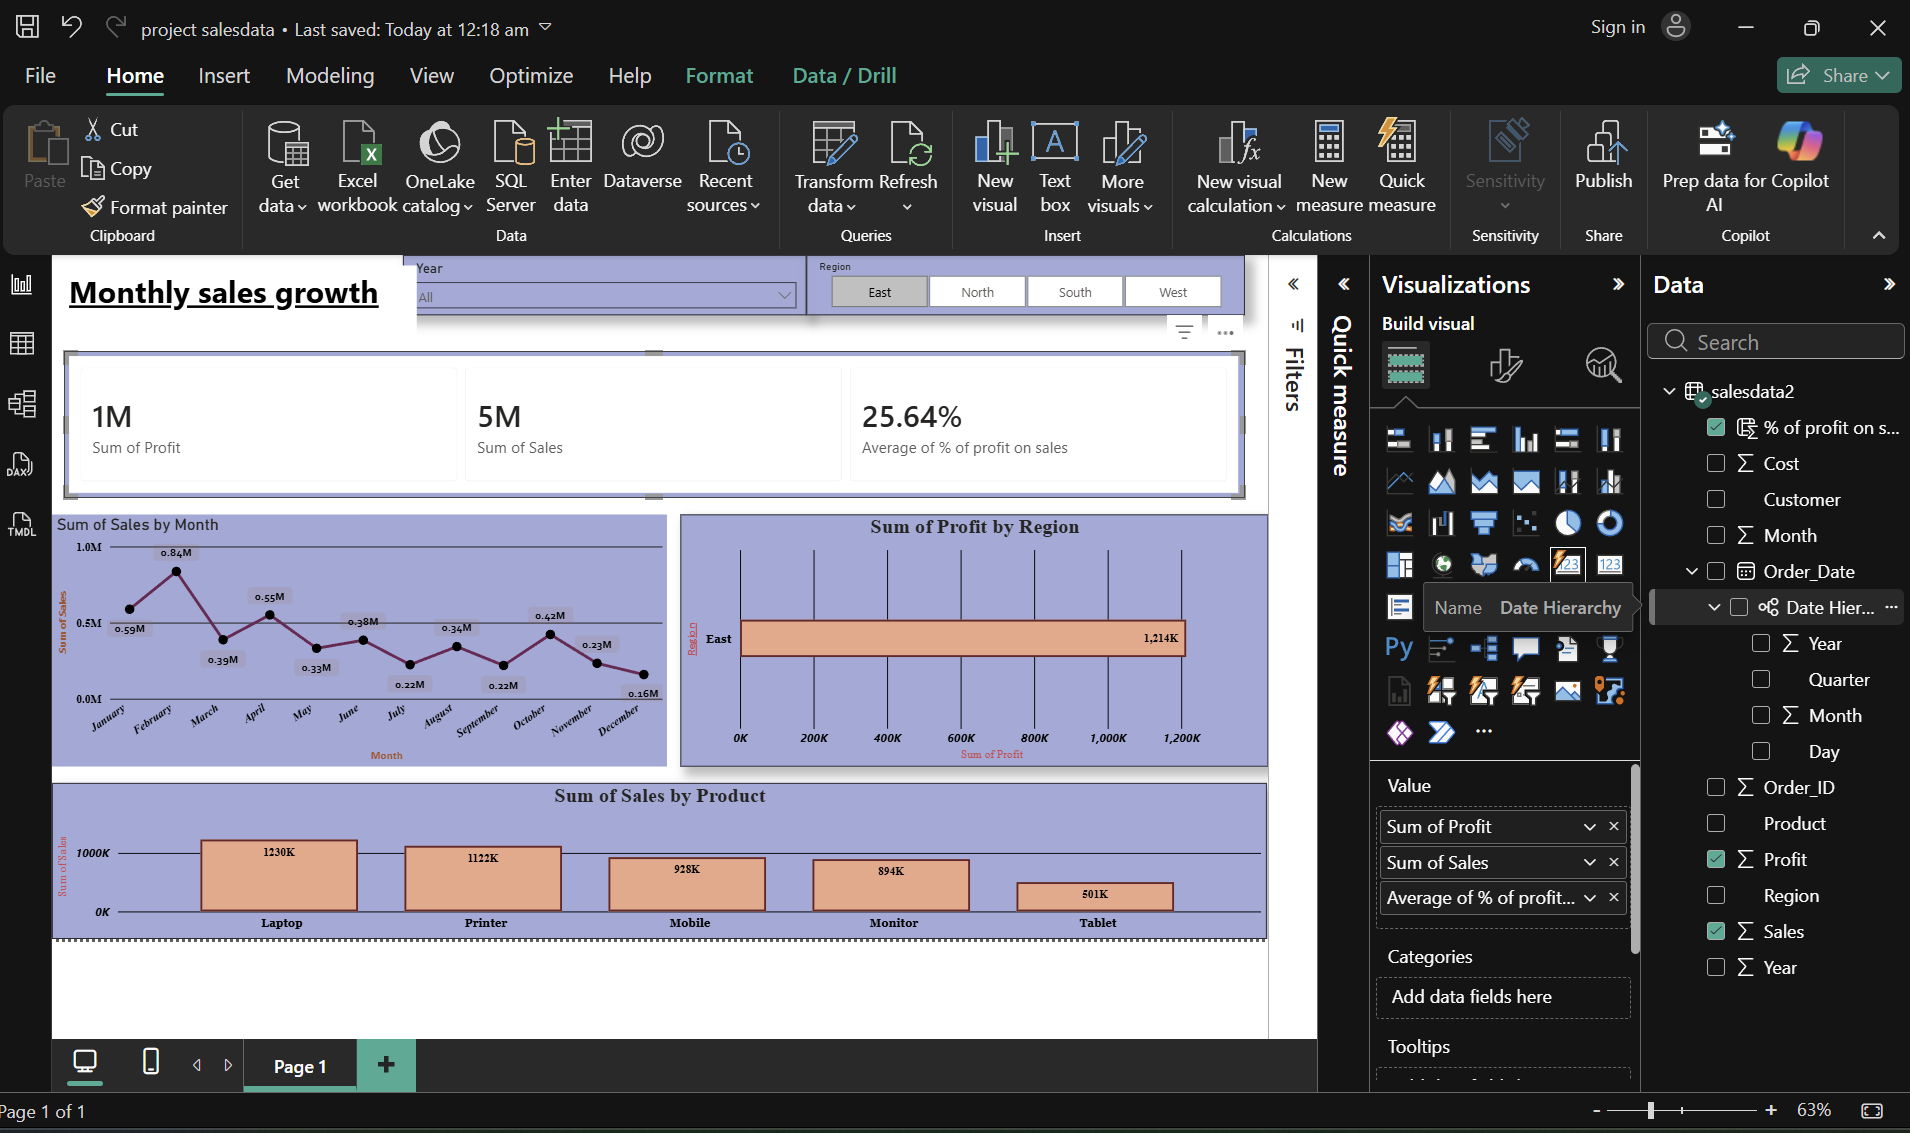

The dashboard page shown, as its layout file describes it:
{"tool":"powerbi","page":{"name":"Page 1","canvas":[1280,720],"ordinal":0},"visuals":[{"type":"clusteredBarChart","fields":{"Y":["Sum(salesdata2.Profit)"],"Category":["salesdata2.Region"]},"box":[661.6,273.2,619,265.3],"z":0},{"type":"cardVisual","fields":{"Data":["Sum(salesdata2.Profit)","Sum(salesdata2.Sales)","Avg(salesdata2.% of profit on sales)"]},"box":[0,101.5,1279.5,184.7],"z":1},{"type":"lineChart","fields":{"Category":["salesdata2.Order_Date.Variation.Date Hierarchy.Month"],"Y":["Sum(salesdata2.Sales)"]},"box":[0,273.2,647.4,265.3],"z":2},{"type":"columnChart","fields":{"Y":["Sum(salesdata2.Sales)"],"Category":["salesdata2.Product"]},"box":[0,555.8,1279,164.2],"z":3},{"type":"slicer","fields":{"Values":["salesdata2.Order_Date.Variation.Date Hierarchy.Year"]},"box":[369.5,0,424.7,88.4],"z":4},{"type":"slicer","fields":{"Values":["salesdata2.Region"]},"box":[794.2,0,461.1,63.2],"z":5},{"type":"textbox","box":[12.6,11.1,371.1,77.4],"z":6}]}

Visuals, with their boxes on the page's 1280x720 design canvas (x1, y1, x2, y2). These are canvas units, not pixel positions in the 1910x1133 screenshot, which may show the page scaled, cropped or inside an application window:
clusteredBarChart - Sum(salesdata2.Profit) x salesdata2.Region: {"left": 662, "top": 273, "right": 1281, "bottom": 538}
cardVisual - Sum(salesdata2.Profit) x Sum(salesdata2.Sales): {"left": 0, "top": 102, "right": 1280, "bottom": 286}
lineChart - salesdata2.Order_Date.Variation.Date Hierarchy.Month x Sum(salesdata2.Sales): {"left": 0, "top": 273, "right": 647, "bottom": 538}
columnChart - Sum(salesdata2.Sales) x salesdata2.Product: {"left": 0, "top": 556, "right": 1279, "bottom": 720}
slicer - salesdata2.Order_Date.Variation.Date Hierarchy.Year: {"left": 370, "top": 0, "right": 794, "bottom": 88}
slicer - salesdata2.Region: {"left": 794, "top": 0, "right": 1255, "bottom": 63}
textbox: {"left": 13, "top": 11, "right": 384, "bottom": 88}
